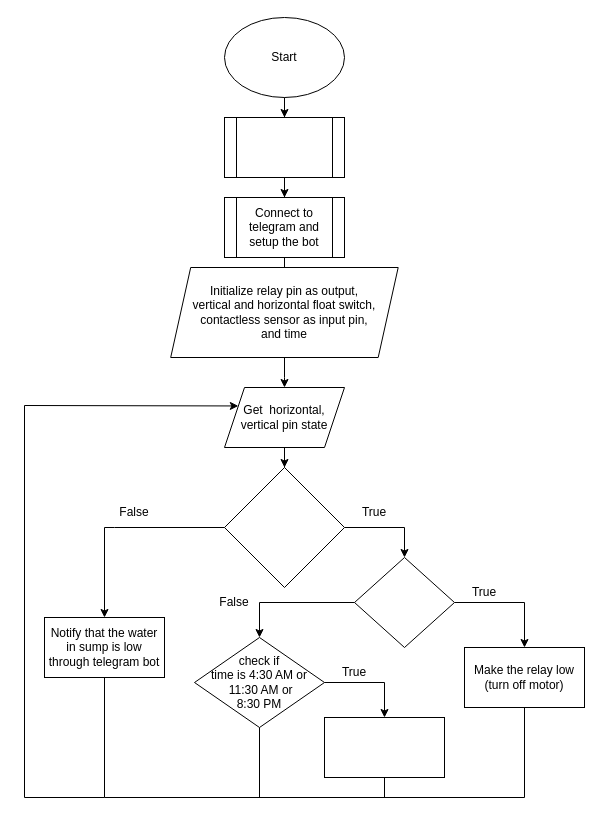
Image size: 602x823. Some labels were removed from this diagram. The centre of each missing label's shape, as x and y in pixels:
Connect to internet: [284,147]
if horizontal is high (tank full): [404,602]
If vertical is high (check water in sump): [284,527]
Make the relay high (turn on the motor): [384,747]
